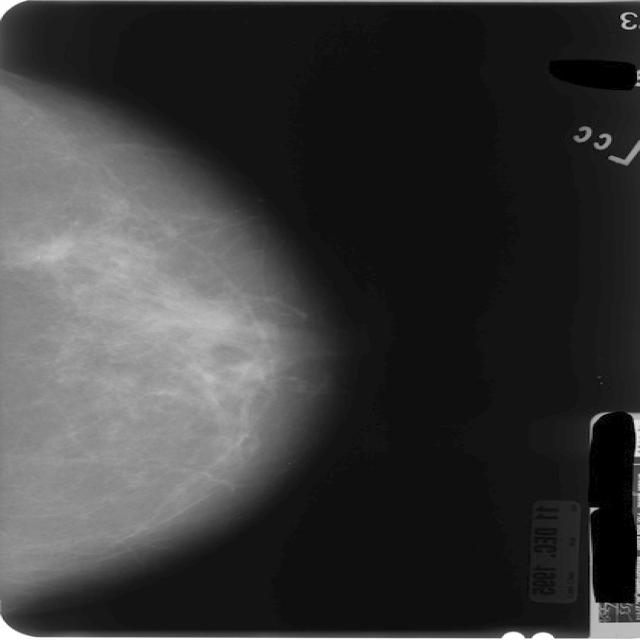tumour: (29, 234, 72, 262)
